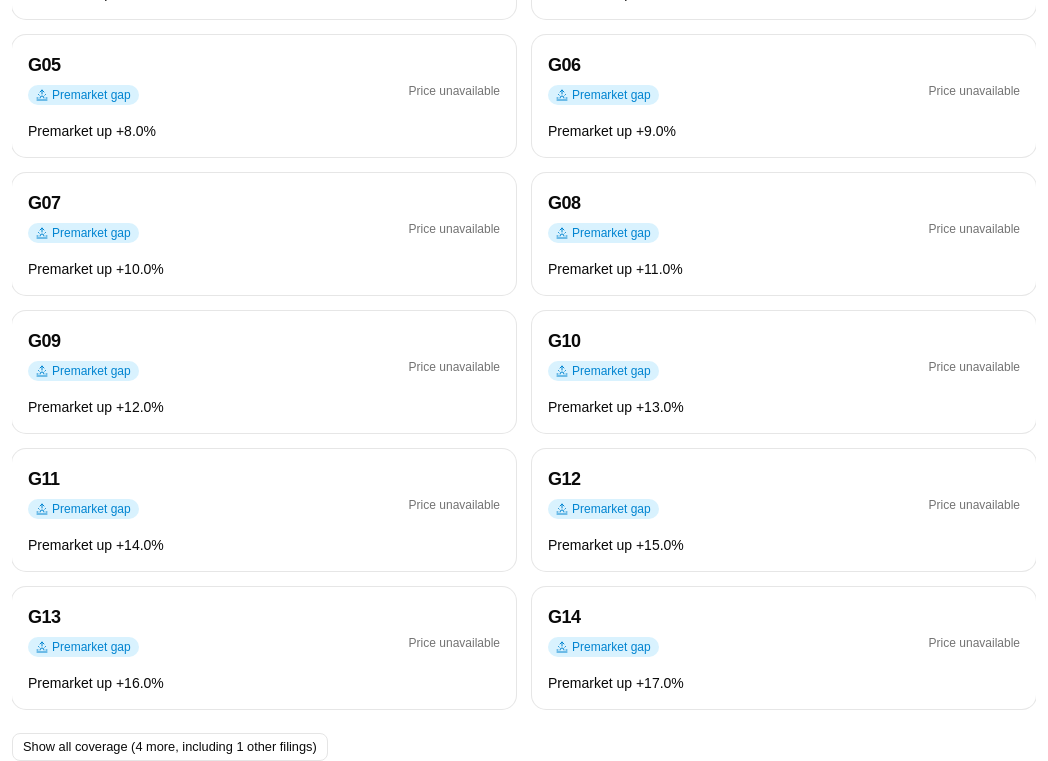
Scenario: shows three Research First cards and at most twelve other cards until expanded
(page scrolled)
Check: the link "G00" is not shown
Check: the link "G14" is shown, box [548,607,581,627]
Click the button "Show all coverage (4 more, including 1 other filings)": [170, 747] box [12,733,328,760]
(page scrolled)
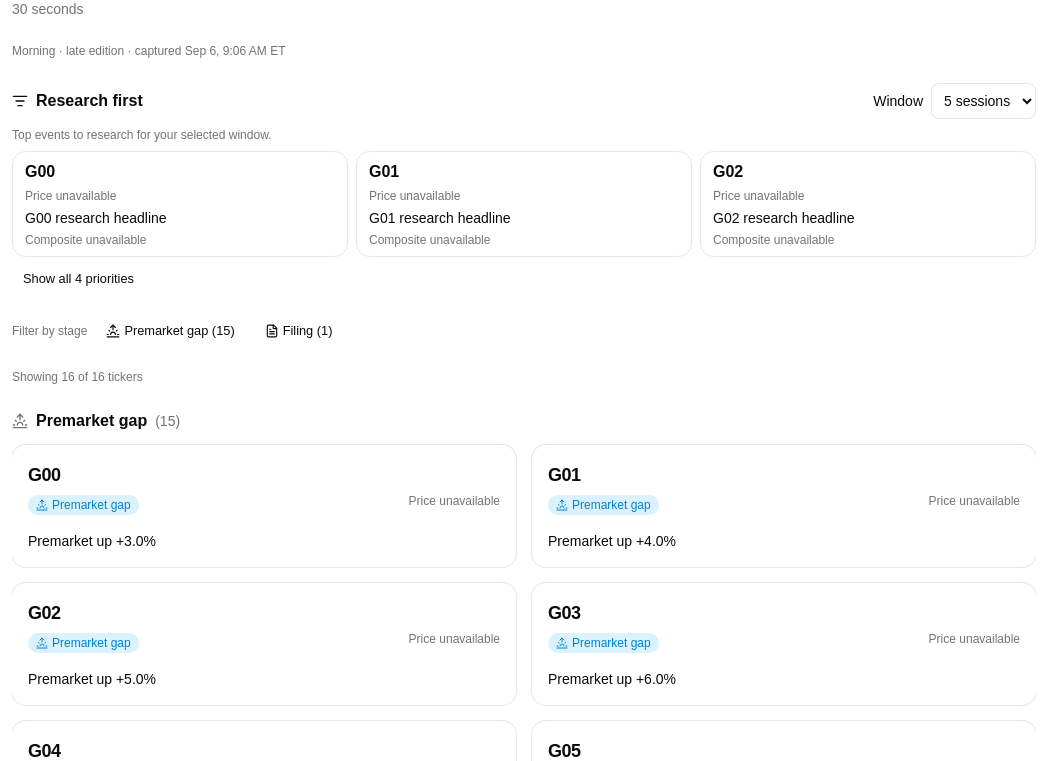
Check: the number of headings "Premarket gap (15)" is 1, box [12,412,180,429]
Check: the link "G00" is shown, box [28,465,61,485]
Check: the text with test id "digest-coverage-count" reads "Showing 16 of 16 tickers", box [12,370,143,384]
